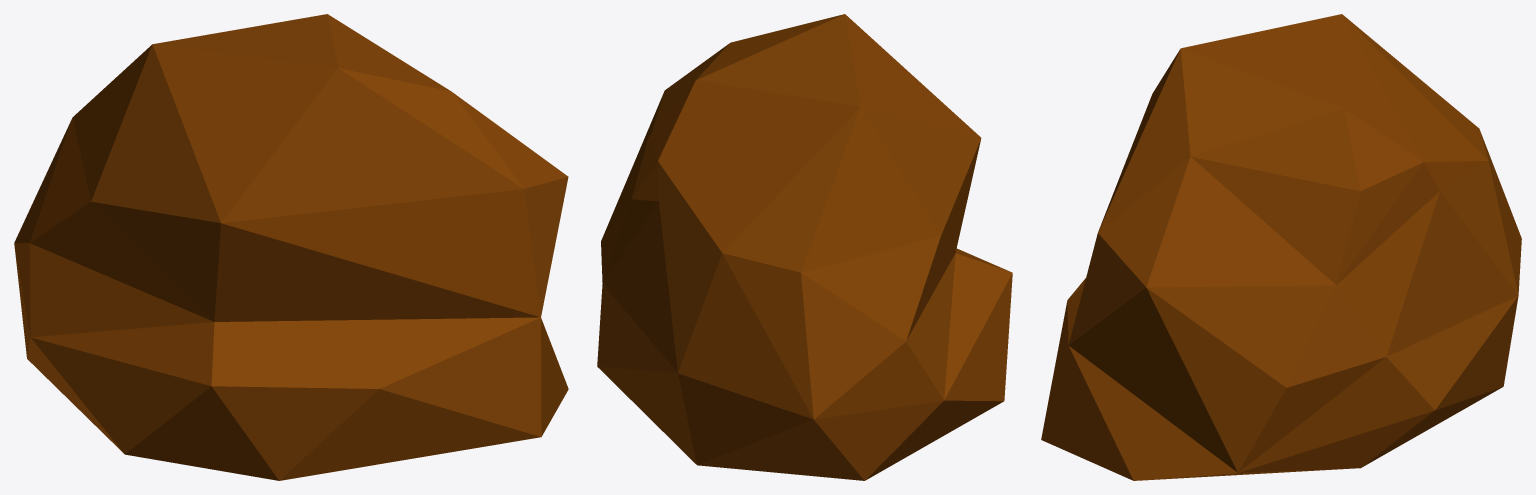
Rendered from rock1.OBJ.
3 renders of one model, left to right at view 1: azimuth 30°, elevation 25°; view 2: azimuth 150°, elevation 25°; view 3: azimuth 270°, elevation 25°, orthographic. The views are drawn at different scales.
Visible parts, largest first — view 1: rock1; view 2: rock1; view 3: rock1.
Boxes of the visible parts, box(x1,y1,x2,y2) form: rock1: box(14, 14, 568, 480); rock1: box(597, 14, 1012, 480); rock1: box(1041, 14, 1521, 480).
Size of the model in its own units: 7.18 by 5.92 by 7.4.
Materials: 1 (1 with a texture image).
